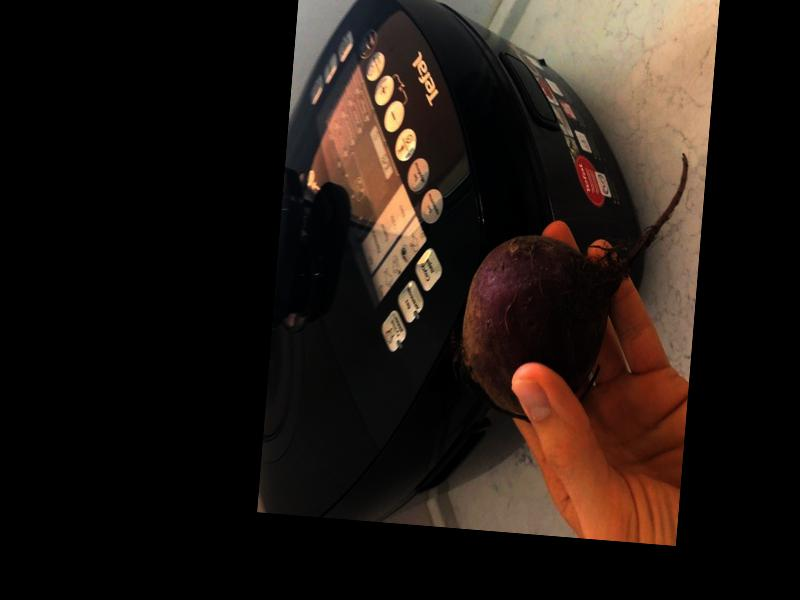Beet: (446, 137, 687, 430)
